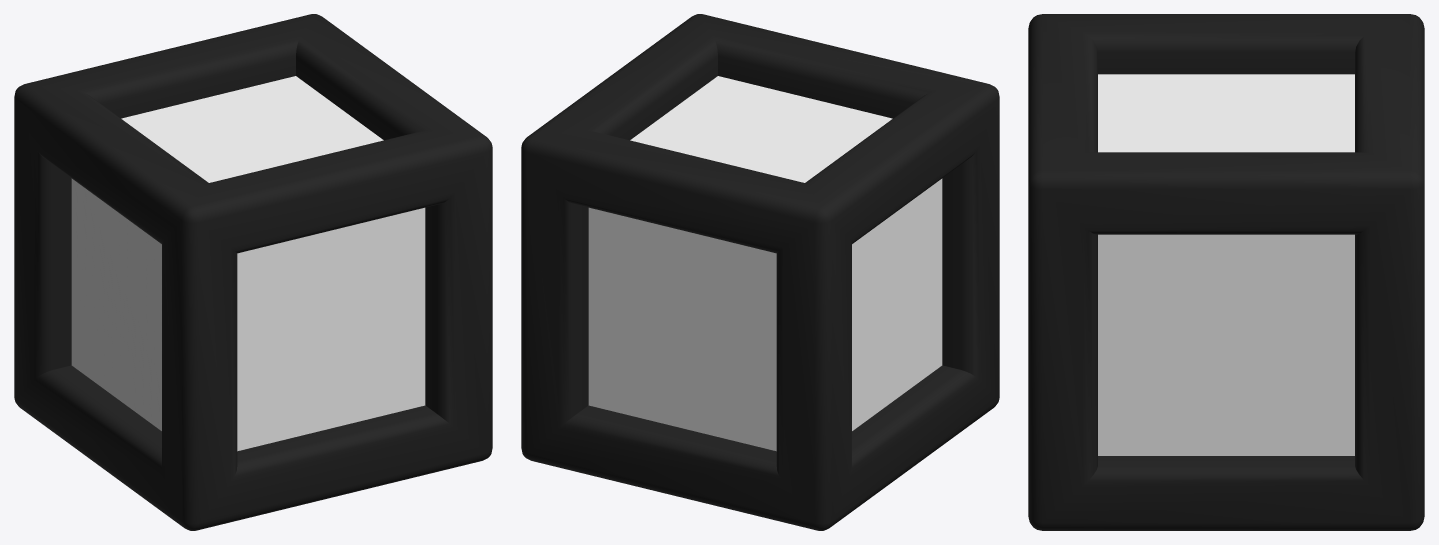
The model's file is black_square_button.glb.
3 renders of one model, left to right at view 1: azimuth 30°, elevation 25°; view 2: azimuth 150°, elevation 25°; view 3: azimuth 270°, elevation 25°, orthographic. The views are drawn at different scales.
Visible parts, largest first — view 1: brown_square.010; view 2: brown_square.010; view 3: brown_square.010.
Part boxes in pixels (x1=…): brown_square.010: x1=14, y1=14, x2=492, y2=530; brown_square.010: x1=521, y1=14, x2=999, y2=530; brown_square.010: x1=1028, y1=14, x2=1424, y2=530.
Size of the model in its own units: 1.92 by 1.92 by 1.92.
1 material, 1 textured.
